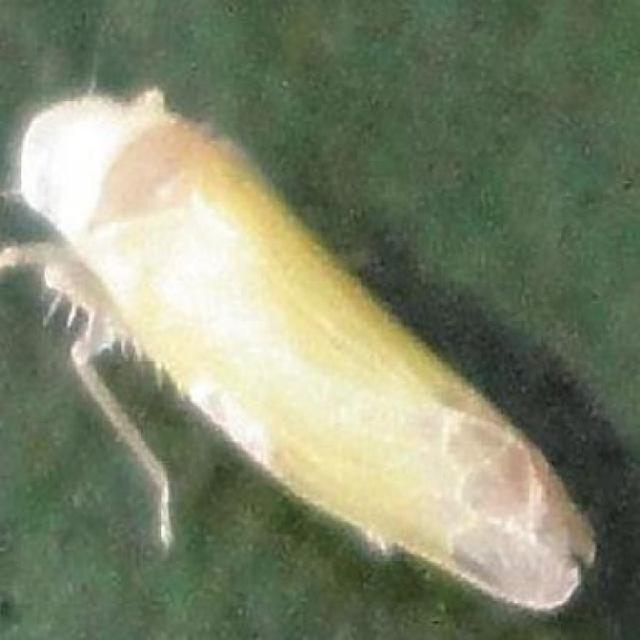green-leafhopper: (2, 85, 603, 615)
